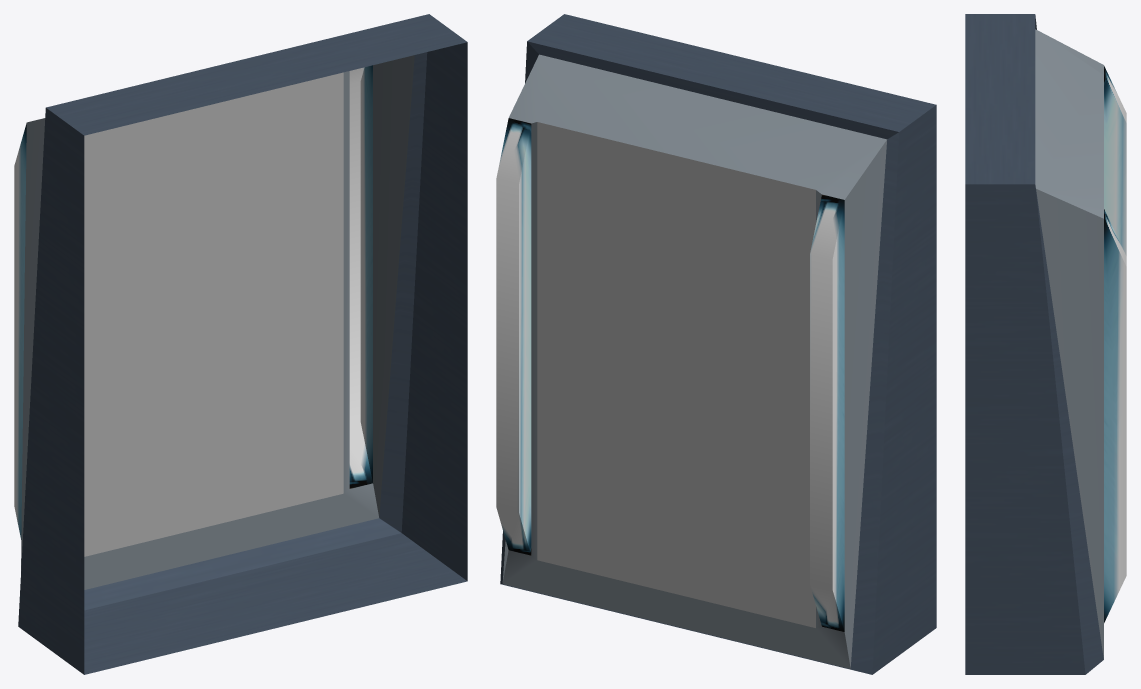
Rendered from Mirror.fbx.
The picture shows the model from 3 angles, left to right: view 1: azimuth 30°, elevation 25°; view 2: azimuth 150°, elevation 25°; view 3: azimuth 270°, elevation 25°; orthographic projection. The views are drawn at different scales.
Parts seen in each view (by area): view 1: Mirror; view 2: Mirror; view 3: Mirror.
Boxes of the visible parts, box(x1,y1,x2,y2) form: Mirror: box(14, 14, 467, 674); Mirror: box(496, 14, 936, 674); Mirror: box(965, 14, 1126, 674).
Bounding box in the file's own units: 71.46 × 96.02 × 28.6.
